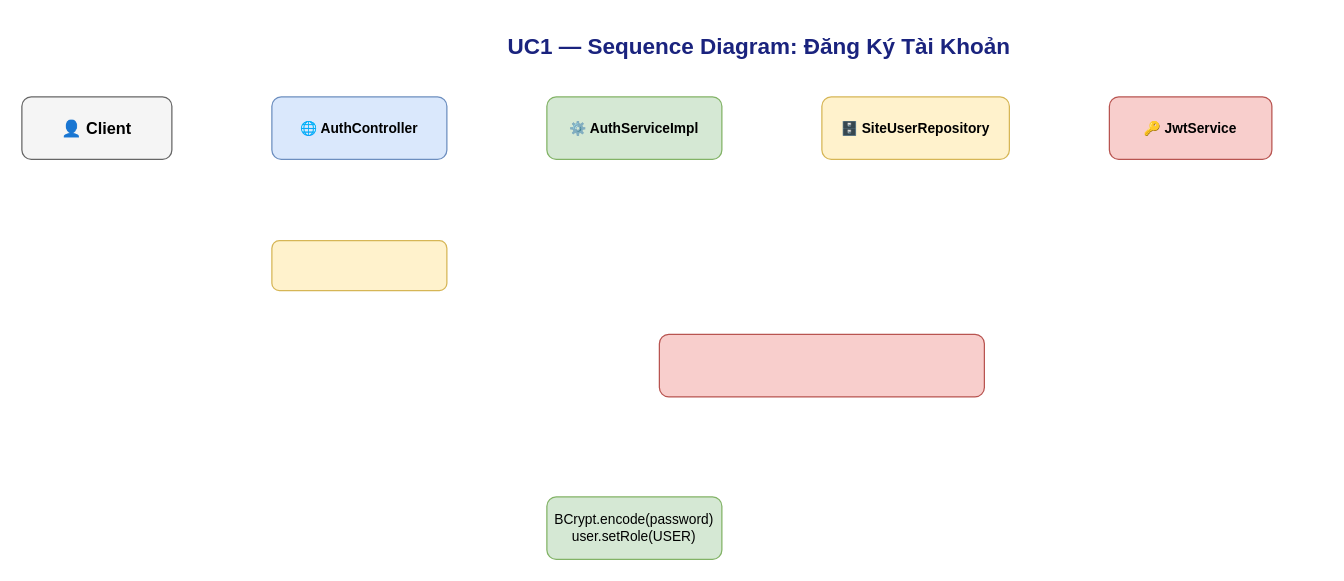
Some shapes in this 1344 by 581 pixel diagram are drawn without their labels. The shapes that lost their labels are listed below. From the top down, each one's centre as x and y in pixels, then its label:
At point (359, 265): "@Valid — Kiểm tra input".
At point (821, 365): "❌ Nếu true → throw BusinessException 400: Username đã tồn tại".
